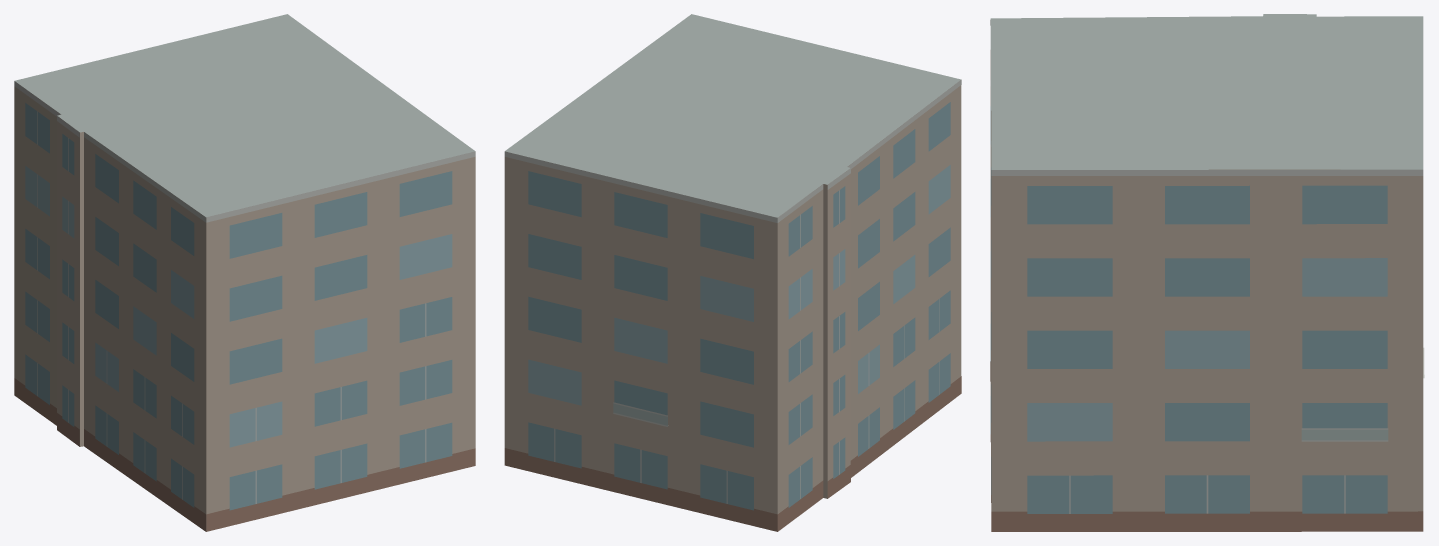
The model's file is survey-upis-32825926.glb.
3 renders of one model, left to right at view 1: azimuth 30°, elevation 25°; view 2: azimuth 150°, elevation 25°; view 3: azimuth 270°, elevation 25°, orthographic. The views are drawn at different scales.
Visible parts, largest first — view 1: survey-upis-32825926.tmp; view 2: survey-upis-32825926.tmp; view 3: survey-upis-32825926.tmp.
Boxes of the visible parts, x1,y1,x2,y2 form: survey-upis-32825926.tmp: [14, 14, 475, 531]; survey-upis-32825926.tmp: [504, 14, 961, 531]; survey-upis-32825926.tmp: [990, 14, 1424, 531].
Size of the model in its own units: 13.23 by 14.29 by 15.53.
